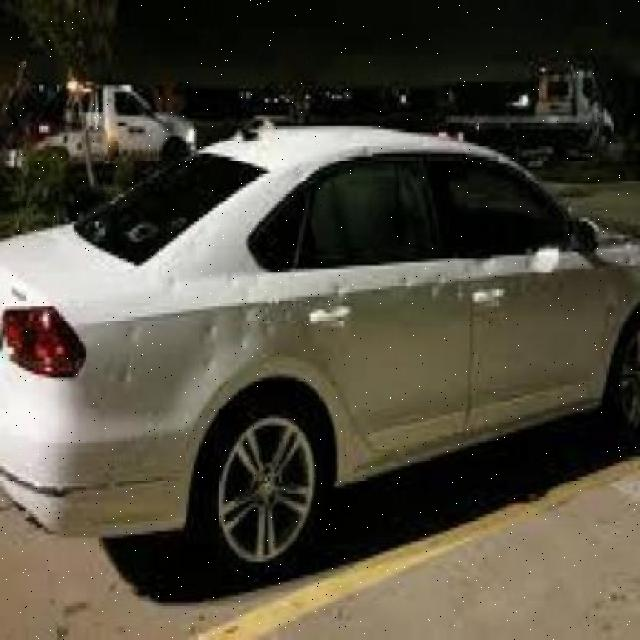damage: (103, 219, 215, 388), (187, 272, 353, 374), (370, 255, 565, 304)
